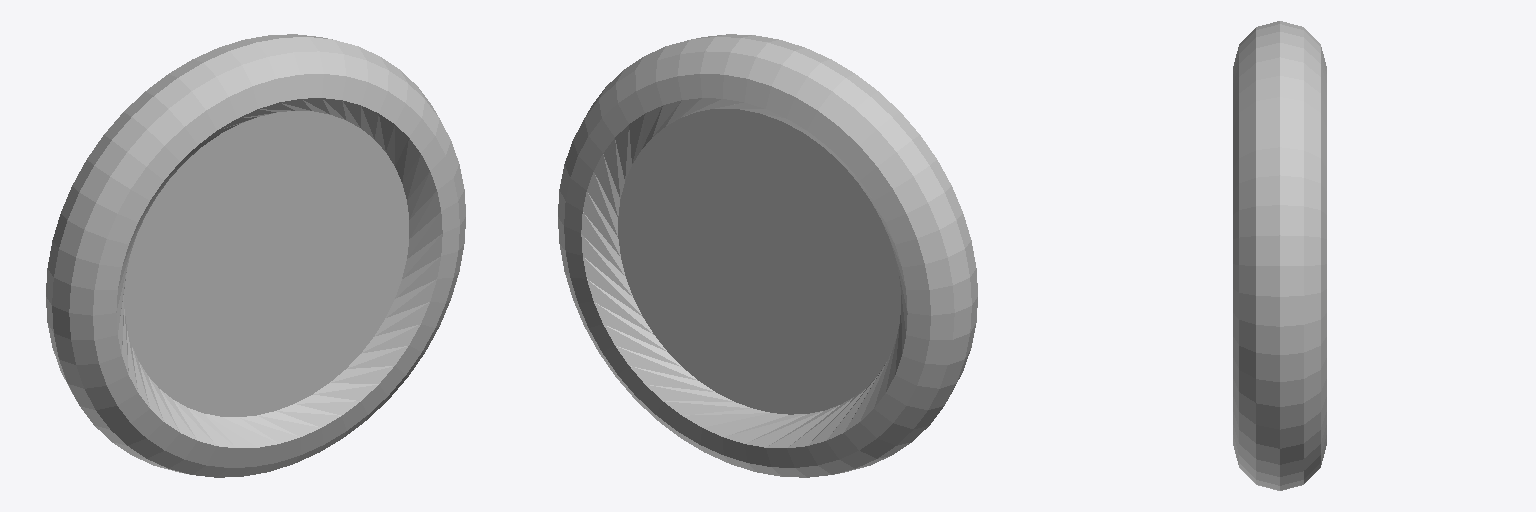
The model's file is Coin.obj.
3 views of the same model, side by side, from view 1: azimuth 30°, elevation 25°; view 2: azimuth 150°, elevation 25°; view 3: azimuth 270°, elevation 25° (orthographic).
Visible parts, largest first — view 1: Sphere; view 2: Sphere; view 3: Sphere.
Part boxes in pixels (left/top/right/bottom): Sphere: left=46, top=34, right=465, bottom=477; Sphere: left=558, top=34, right=977, bottom=477; Sphere: left=1233, top=21, right=1326, bottom=490.
Bounding box in the file's own units: 2.5 × 2.5 × 0.5.